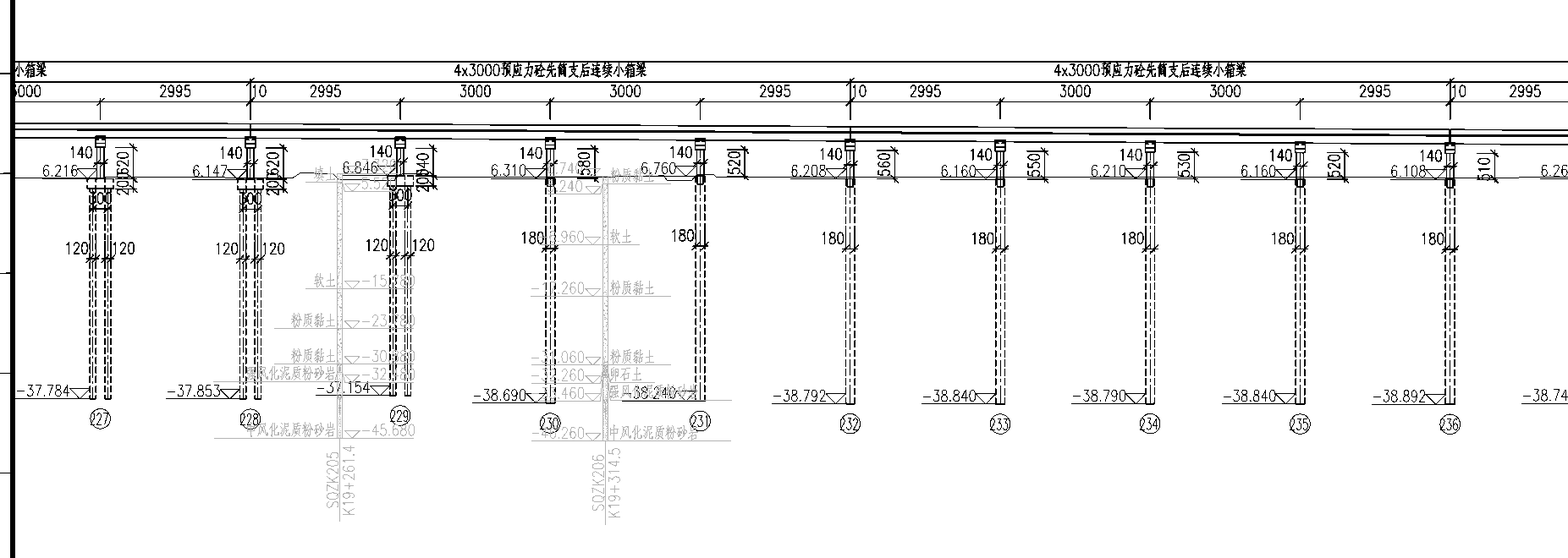B: (849, 53, 1458, 98)
C: (162, 127, 278, 436), (470, 128, 575, 439), (313, 129, 420, 433), (23, 128, 128, 436), (769, 129, 872, 442), (1219, 133, 1321, 442), (920, 131, 1021, 441), (1070, 133, 1171, 441), (1371, 134, 1471, 442), (624, 130, 723, 437), (1519, 135, 1567, 448)
